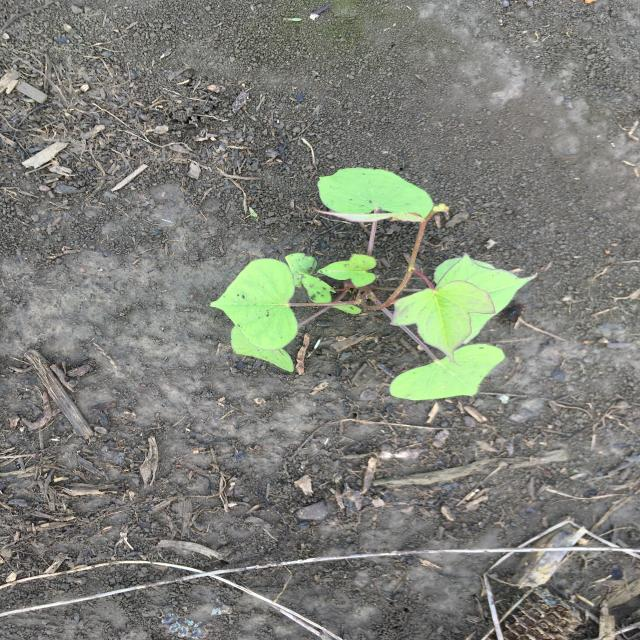MorningGlory: (207, 164, 541, 403)
